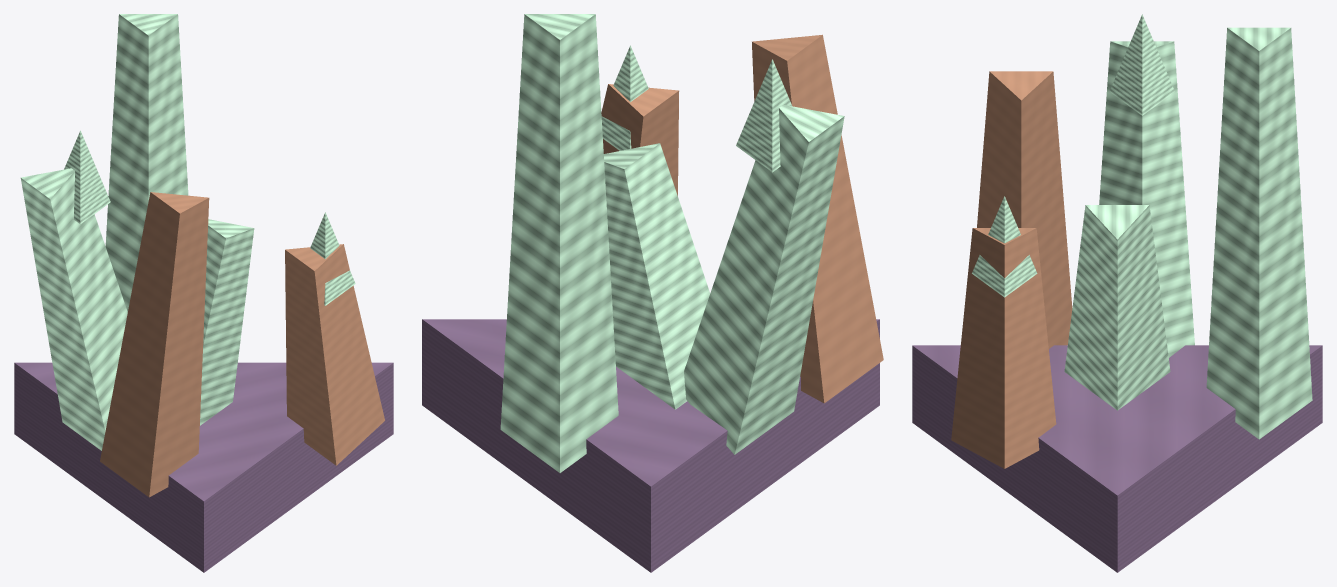
Rendered from atlas100-s086-a04.lod2.glb.
3 views of the same model, side by side, from view 1: azimuth 30°, elevation 25°; view 2: azimuth 150°, elevation 25°; view 3: azimuth 270°, elevation 25° (orthographic). The views are drawn at different scales.
Visible parts, largest first — view 1: atlas100-s086-a04:part-000, atlas100-s086-a04:part-003, atlas100-s086-a04:part-009, atlas100-s086-a04:part-005, atlas100-s086-a04:part-007, atlas100-s086-a04:part-001, atlas100-s086-a04:part-010, atlas100-s086-a04:part-008; view 2: atlas100-s086-a04:part-005, atlas100-s086-a04:part-000, atlas100-s086-a04:part-009, atlas100-s086-a04:part-001, atlas100-s086-a04:part-003, atlas100-s086-a04:part-007, atlas100-s086-a04:part-010, atlas100-s086-a04:part-008; view 3: atlas100-s086-a04:part-000, atlas100-s086-a04:part-005, atlas100-s086-a04:part-007, atlas100-s086-a04:part-001, atlas100-s086-a04:part-003, atlas100-s086-a04:part-009, atlas100-s086-a04:part-010, atlas100-s086-a04:part-008.
Boxes of the visible parts, x1=… form: atlas100-s086-a04:part-000: x1=14, y1=362, x2=393, y2=572; atlas100-s086-a04:part-003: x1=100, y1=192, x2=209, y2=497; atlas100-s086-a04:part-009: x1=20, y1=168, x2=127, y2=450; atlas100-s086-a04:part-005: x1=105, y1=14, x2=188, y2=311; atlas100-s086-a04:part-007: x1=285, y1=244, x2=384, y2=465; atlas100-s086-a04:part-001: x1=200, y1=219, x2=254, y2=425; atlas100-s086-a04:part-010: x1=64, y1=130, x2=110, y2=224; atlas100-s086-a04:part-008: x1=310, y1=212, x2=355, y2=305; atlas100-s086-a04:part-005: x1=500, y1=14, x2=618, y2=472; atlas100-s086-a04:part-000: x1=422, y1=319, x2=879, y2=572; atlas100-s086-a04:part-009: x1=684, y1=104, x2=844, y2=454; atlas100-s086-a04:part-001: x1=603, y1=143, x2=710, y2=409; atlas100-s086-a04:part-003: x1=752, y1=34, x2=883, y2=403; atlas100-s086-a04:part-007: x1=601, y1=84, x2=679, y2=195; atlas100-s086-a04:part-010: x1=736, y1=59, x2=791, y2=172; atlas100-s086-a04:part-008: x1=601, y1=45, x2=648, y2=150; atlas100-s086-a04:part-000: x1=912, y1=345, x2=1322, y2=572; atlas100-s086-a04:part-005: x1=1206, y1=27, x2=1312, y2=439; atlas100-s086-a04:part-007: x1=951, y1=228, x2=1056, y2=468; atlas100-s086-a04:part-001: x1=1064, y1=205, x2=1170, y2=410; atlas100-s086-a04:part-003: x1=977, y1=71, x2=1072, y2=348; atlas100-s086-a04:part-009: x1=1099, y1=41, x2=1194, y2=357; atlas100-s086-a04:part-010: x1=1109, y1=14, x2=1174, y2=115; atlas100-s086-a04:part-008: x1=972, y1=196, x2=1037, y2=297.
Size of the model in its own units: 0.9772 by 1.1 by 0.9258.
Materials: 3 (3 with a texture image).
